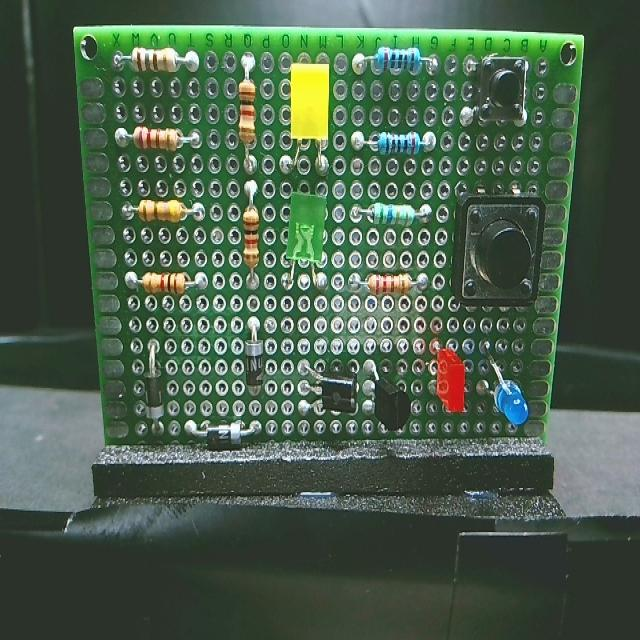diode: (139, 338, 172, 446), (182, 413, 270, 451), (242, 314, 268, 404)
led: (285, 58, 336, 176), (280, 188, 334, 296), (479, 332, 531, 434), (428, 338, 471, 420)
resistor: (344, 40, 444, 81), (235, 175, 268, 293), (233, 48, 261, 178), (110, 44, 203, 82), (349, 126, 439, 162), (113, 122, 205, 157), (122, 267, 208, 301), (346, 198, 432, 232), (352, 270, 432, 306), (118, 197, 208, 228)
switch: (449, 177, 548, 316), (460, 51, 533, 136)
transistor: (362, 352, 416, 438), (295, 356, 359, 422)
